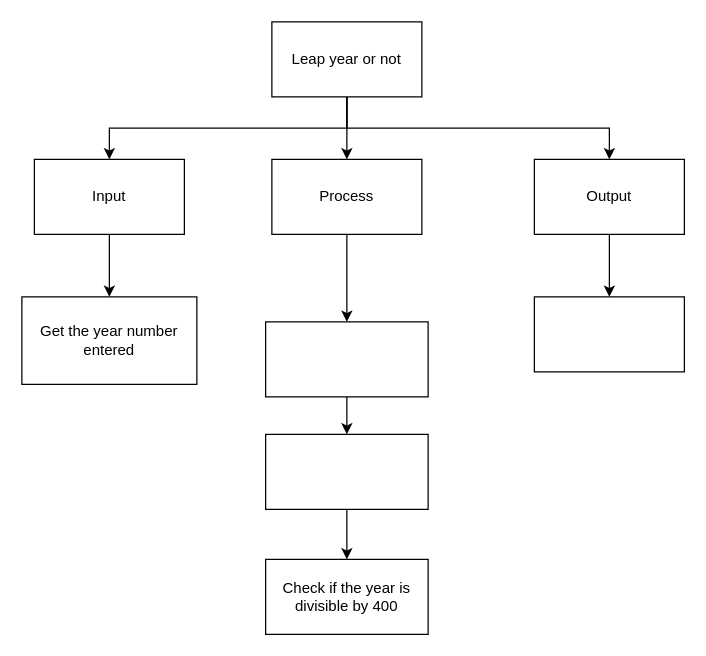
Image size: 706x656. Some labels were removed from this diagram. The shapes that lost their labels are listed below. From the top down, each one's box as (x1, y1, x2, y2) in pixels, then its label:
(533, 296, 684, 372): Show the result(leap year or not)
(264, 321, 428, 397): Check if the year number is divisible by 4
(264, 433, 428, 509): Check if the year is divisible by 100
